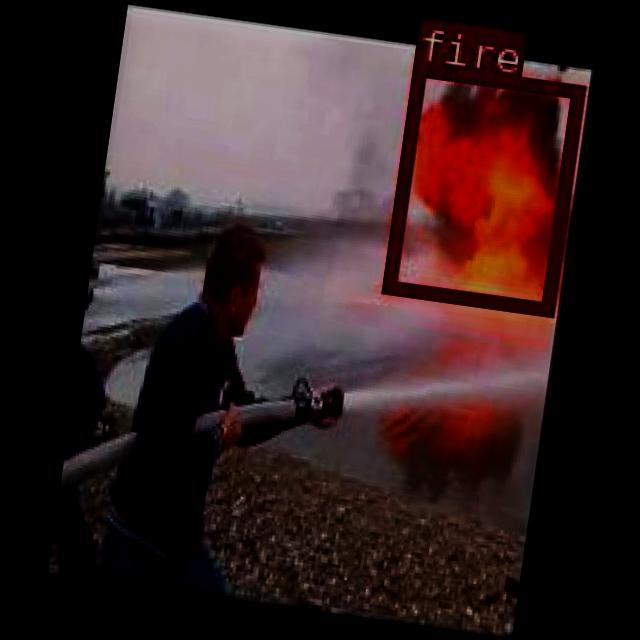fire: (382, 61, 582, 312)
